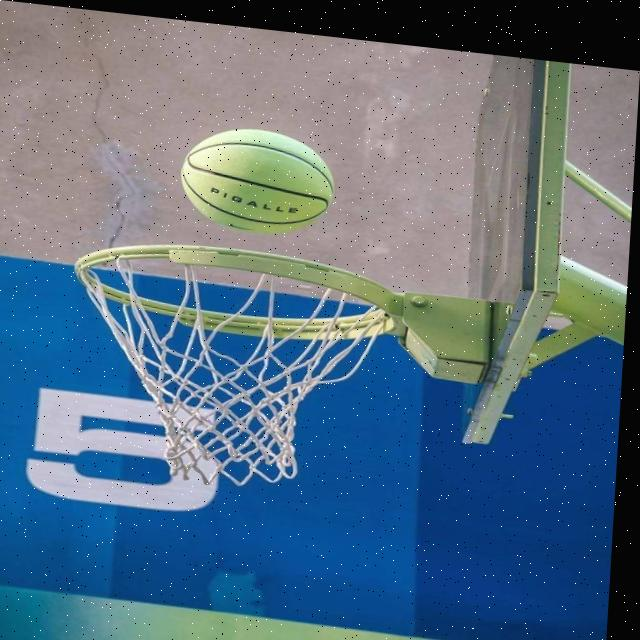hoop: (28, 222, 505, 509)
